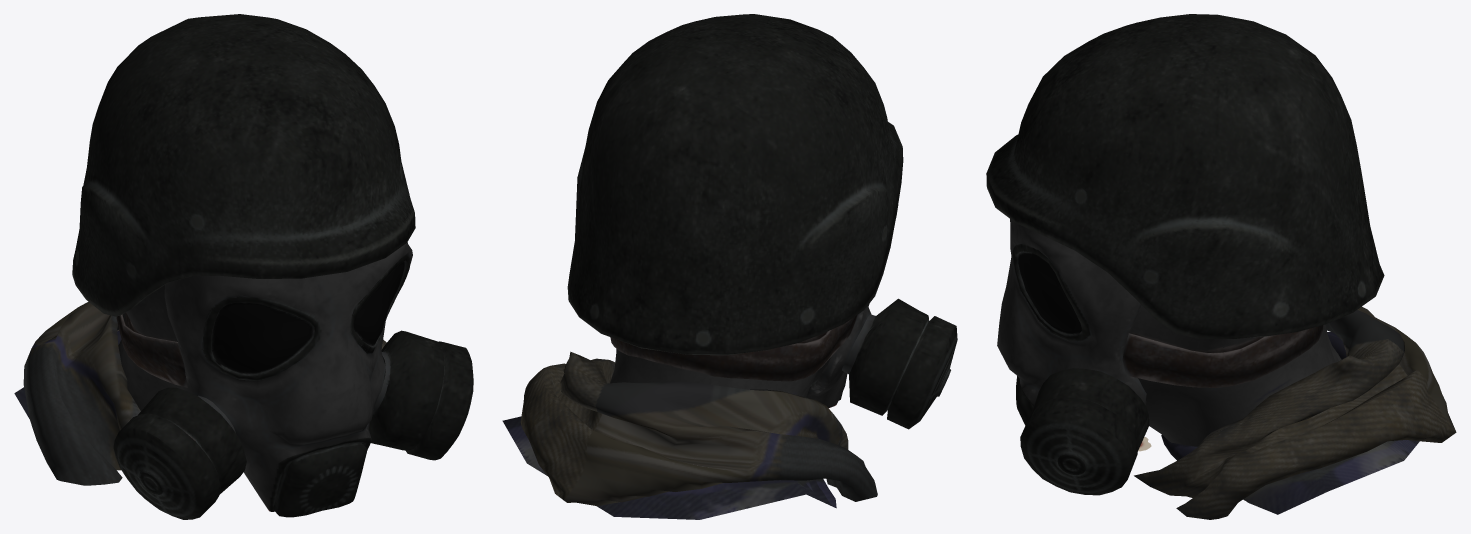
File: Severed_Head.fbx
The picture shows the model from 3 angles, left to right: view 1: azimuth 30°, elevation 25°; view 2: azimuth 150°, elevation 25°; view 3: azimuth 270°, elevation 25°; orthographic projection. The views are drawn at different scales.
Parts seen in each view (by area): view 1: Severed_Head_Mesh; view 2: Severed_Head_Mesh; view 3: Severed_Head_Mesh.
Part boxes in pixels (<box>): Severed_Head_Mesh: <box>14,14,473,519</box>; Severed_Head_Mesh: <box>502,14,957,519</box>; Severed_Head_Mesh: <box>986,14,1456,519</box>.
Size of the model in its own units: 0.2465 by 0.2902 by 0.2987.
